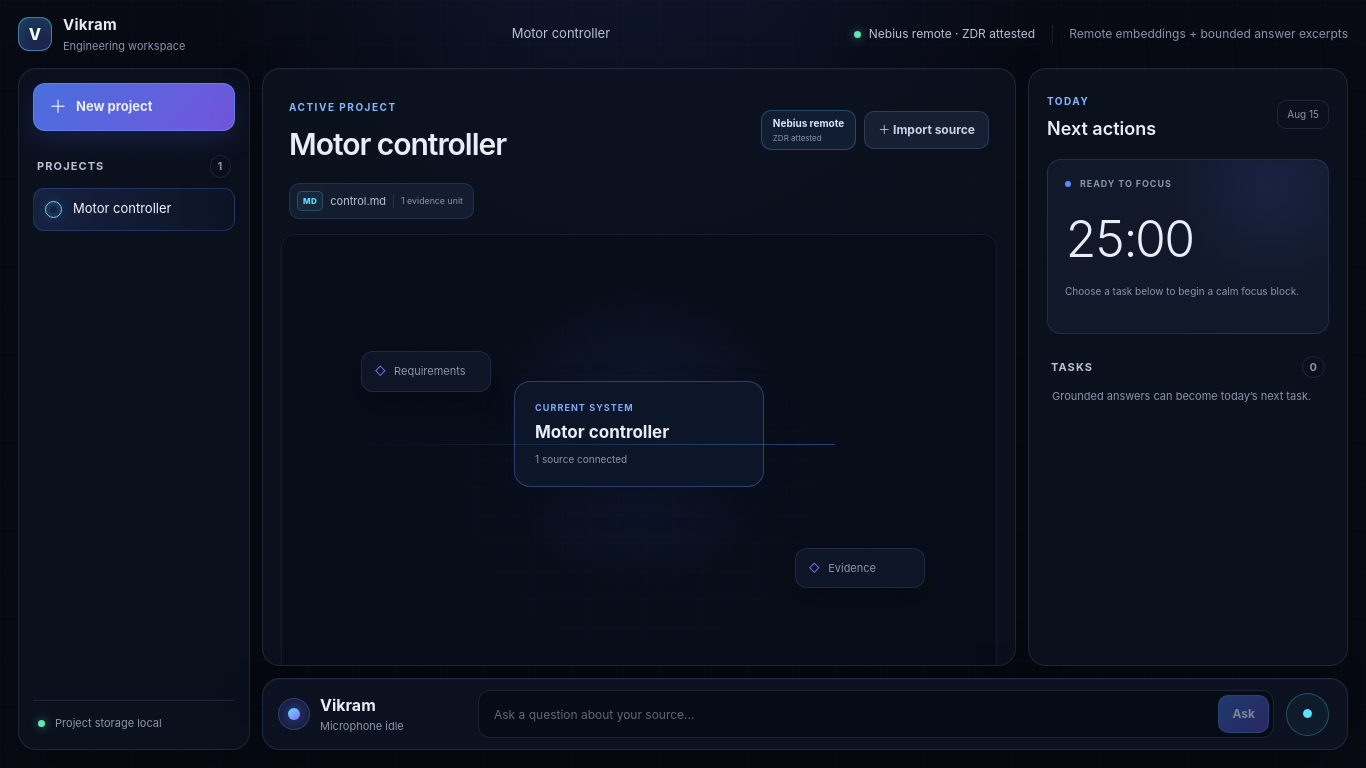
reviewable vertical slice UI › shows remote answer stages and cancels the in-flight request
Expected: the heading "Motor controller" is shown, [289,122,506,167]
Type "What is phase margin?" into the field named "Ask about the selected project". click: [847, 714]
box: [483,695,1212,733]
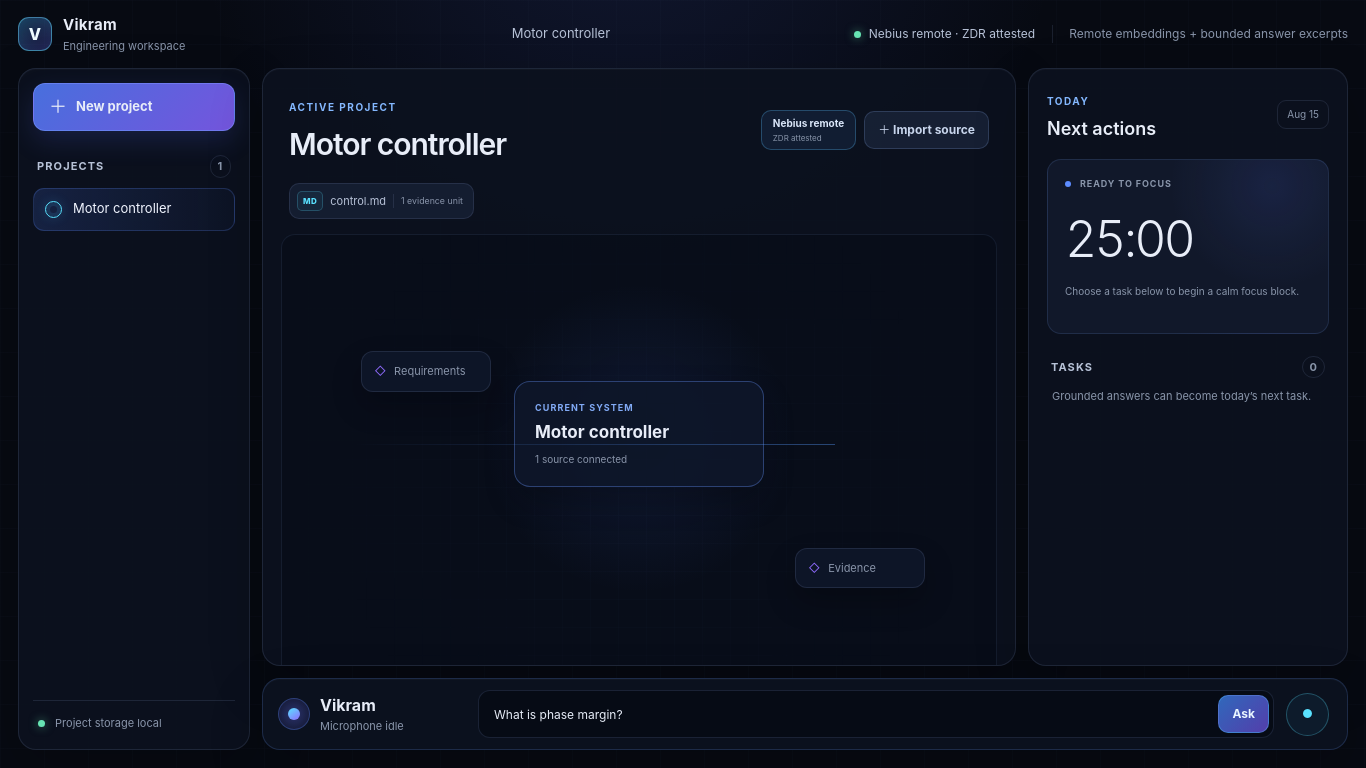
Click the button "Ask". click: [1244, 714]
box: [1218,695,1269,733]
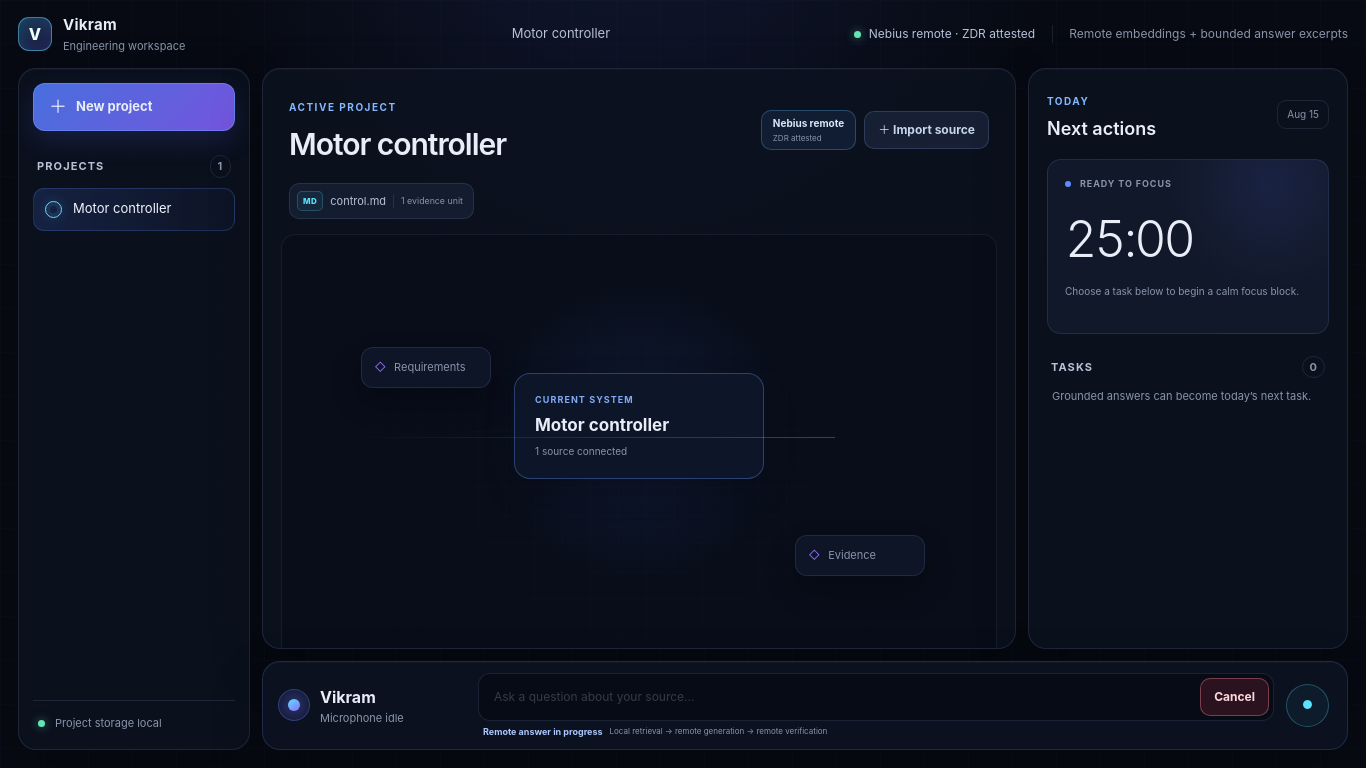
Result: the text "Remote answer in progress" is shown at [483,724,602,738]
Result: the text "Local retrieval → remote generation → remote verification" is shown at [610,725,827,737]
Click the button "Cancel". click: [1235, 696]
box: [1200,678,1269,716]
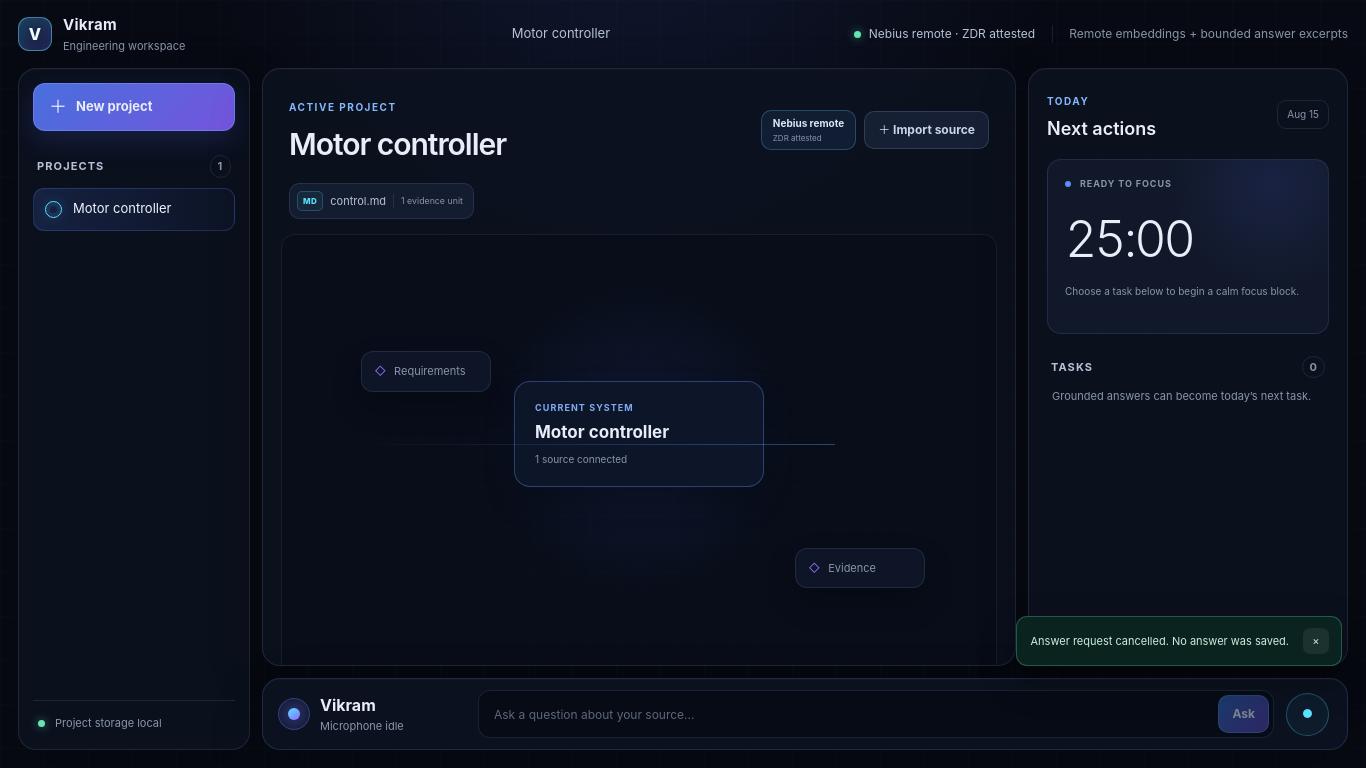
Result: the text "Answer request cancelled. No answer was saved." is shown at [1030,634,1289,648]
